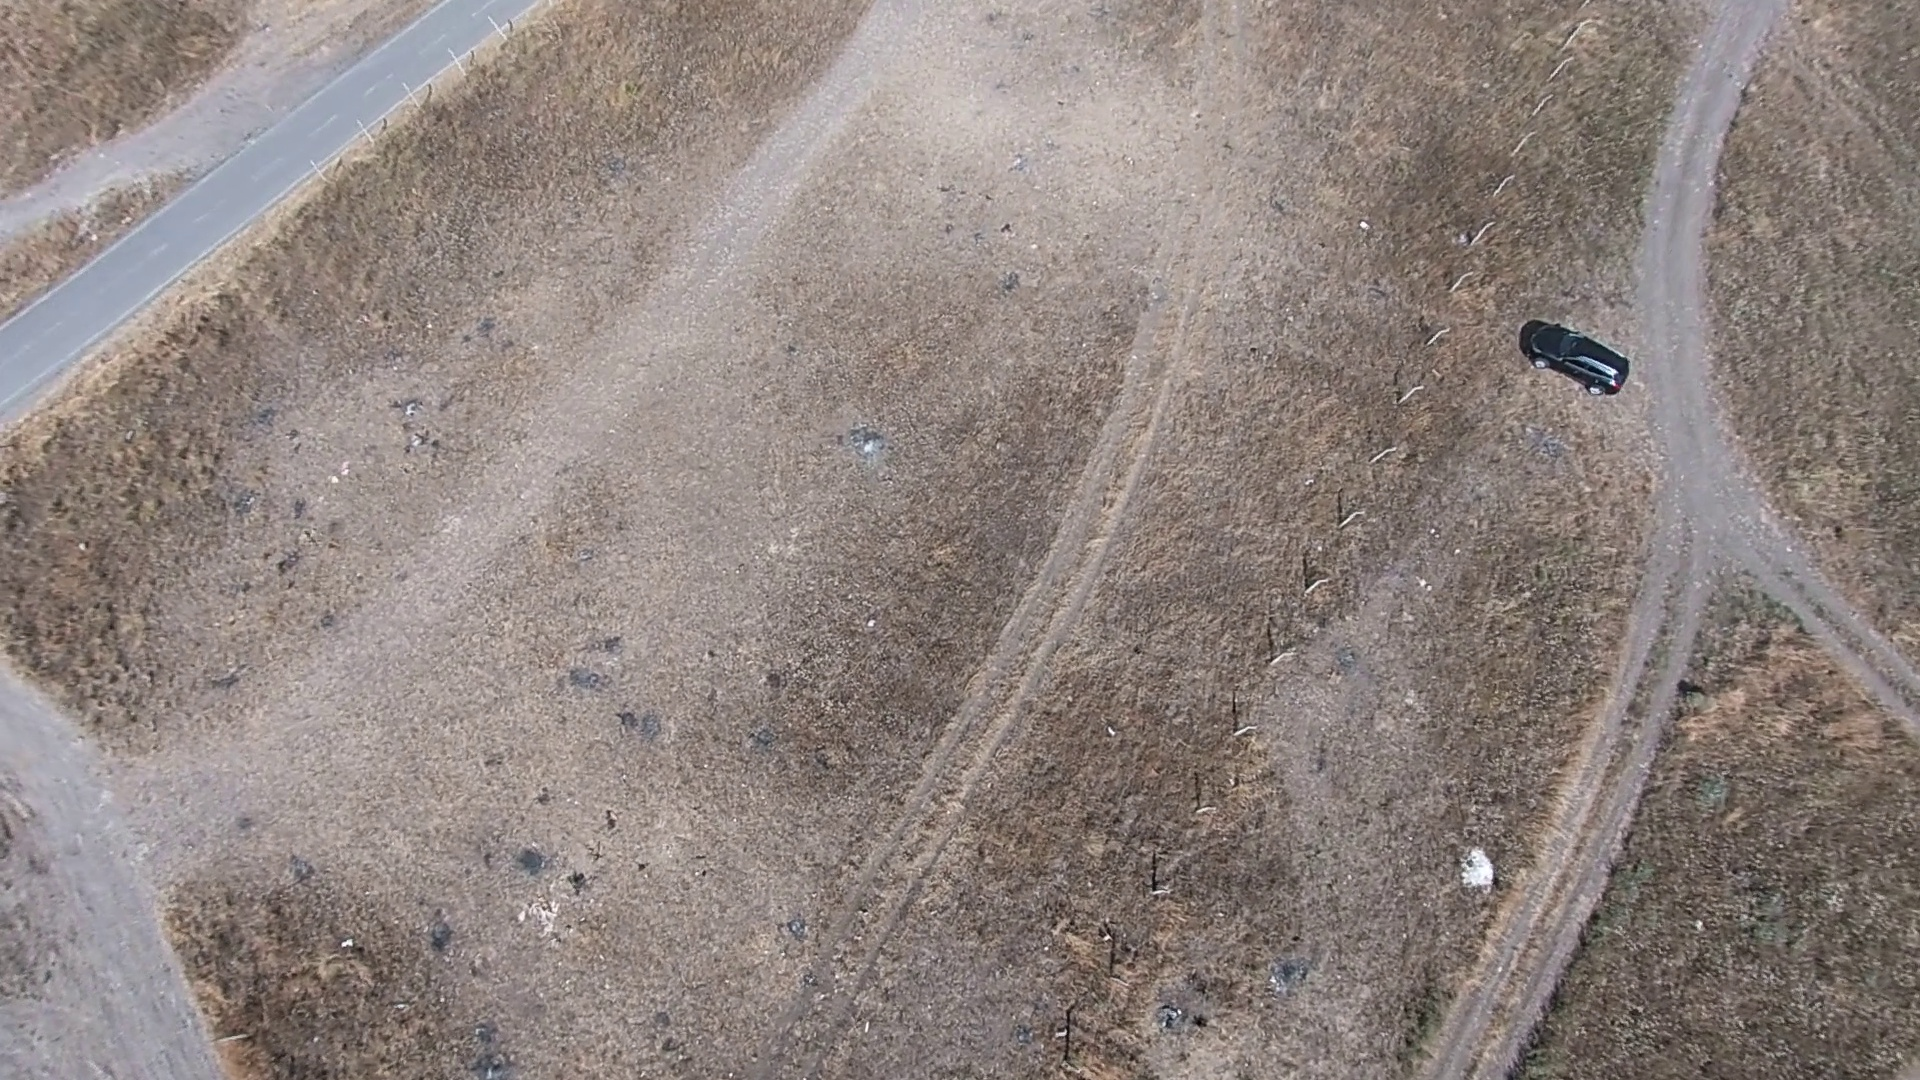araba: (1524, 320, 1629, 392)
